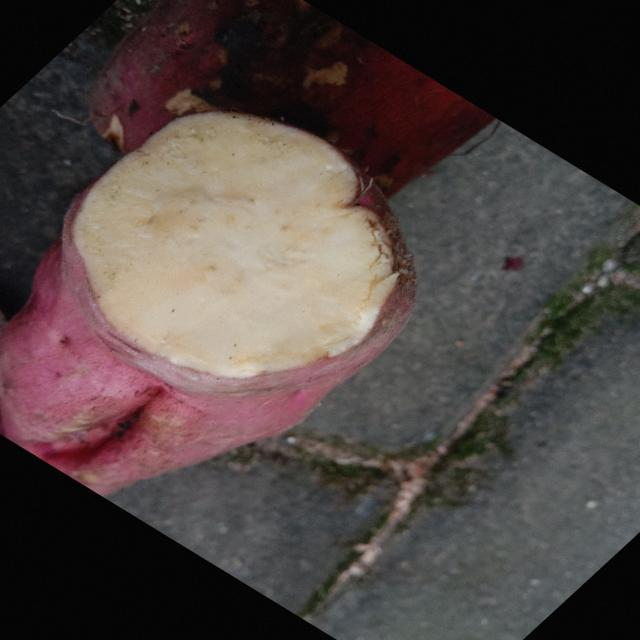Healthy Sweet Potato: (73, 112, 397, 378)
